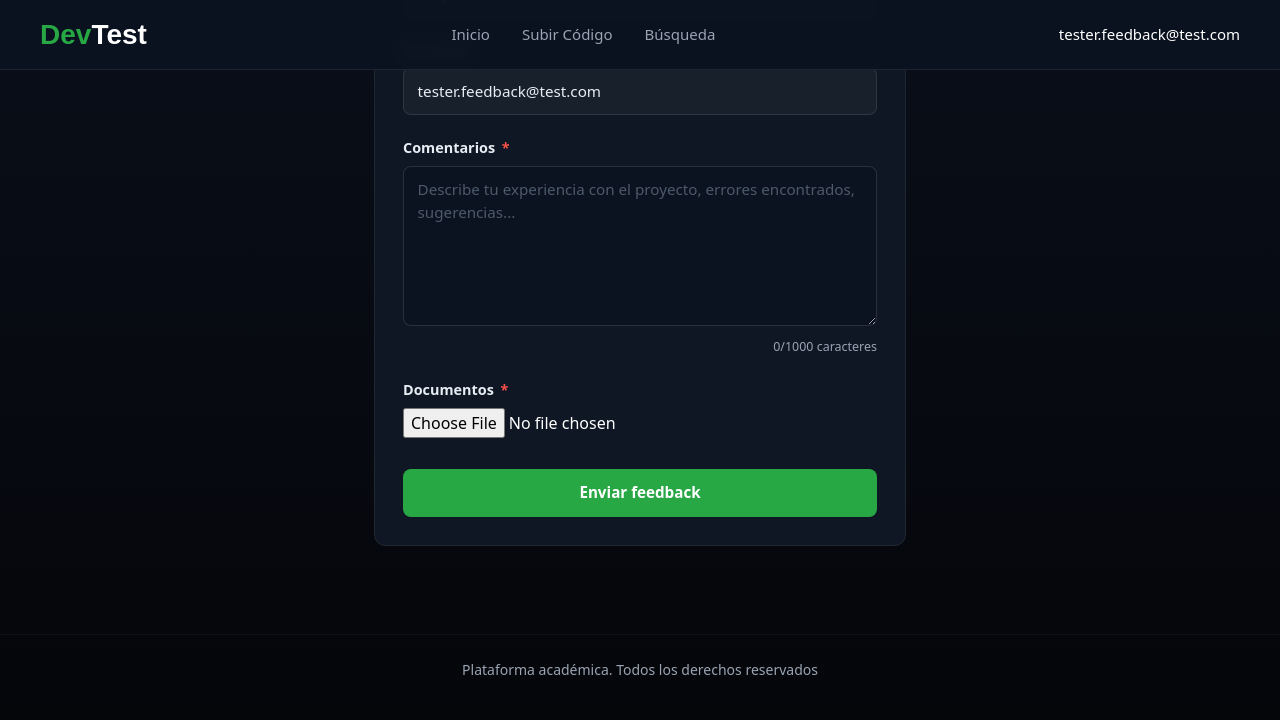
Test: DT_08 - Enviar feedback de proyecto › DT_08_10: Al corregir texto limpia solo el error de texto
This screenshot has width=1280, height=720.
(page scrolled)
Click the button with class "feedback-boton-enviar": click(640, 493) [403,469,877,517]
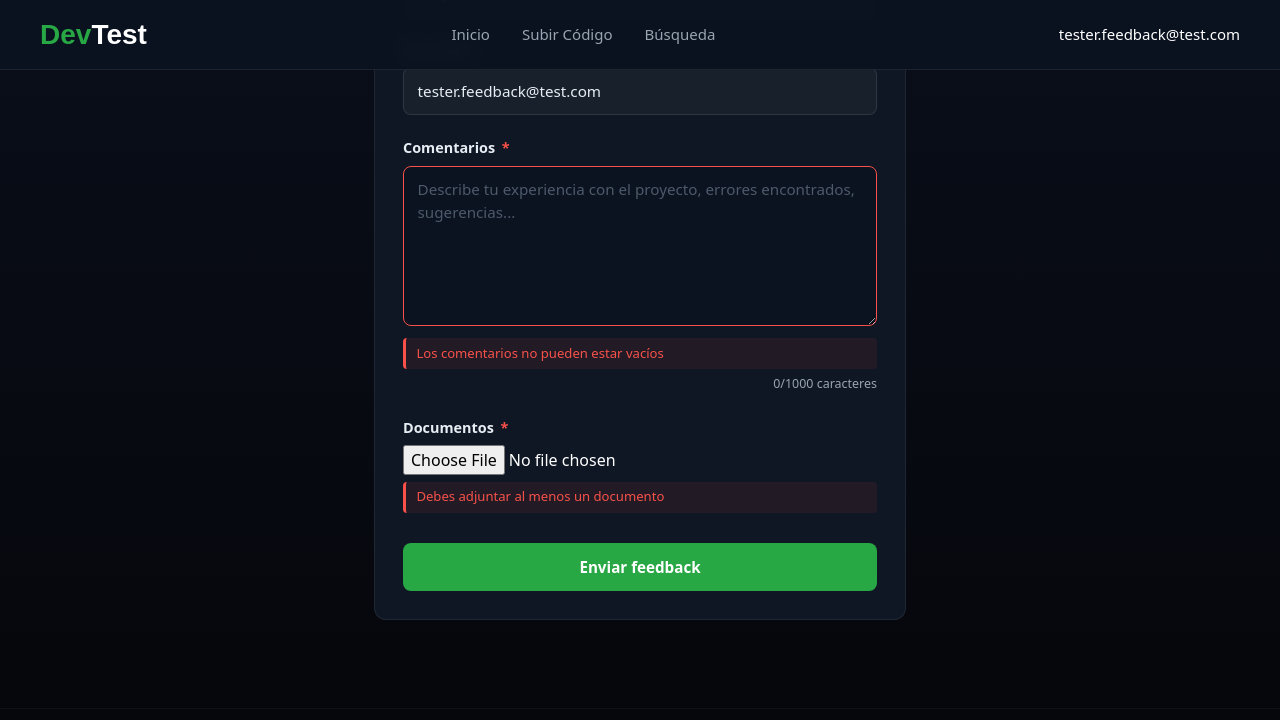
expect the text "Los comentarios no pueden estar vac" is shown: met, box [416,344,663,362]
expect the text "Debes adjuntar al menos un documento" is shown: met, box [403,482,877,513]
In the text box with id "texto-feedback": (640, 246) [403,166,877,326], type "Texto corregido"
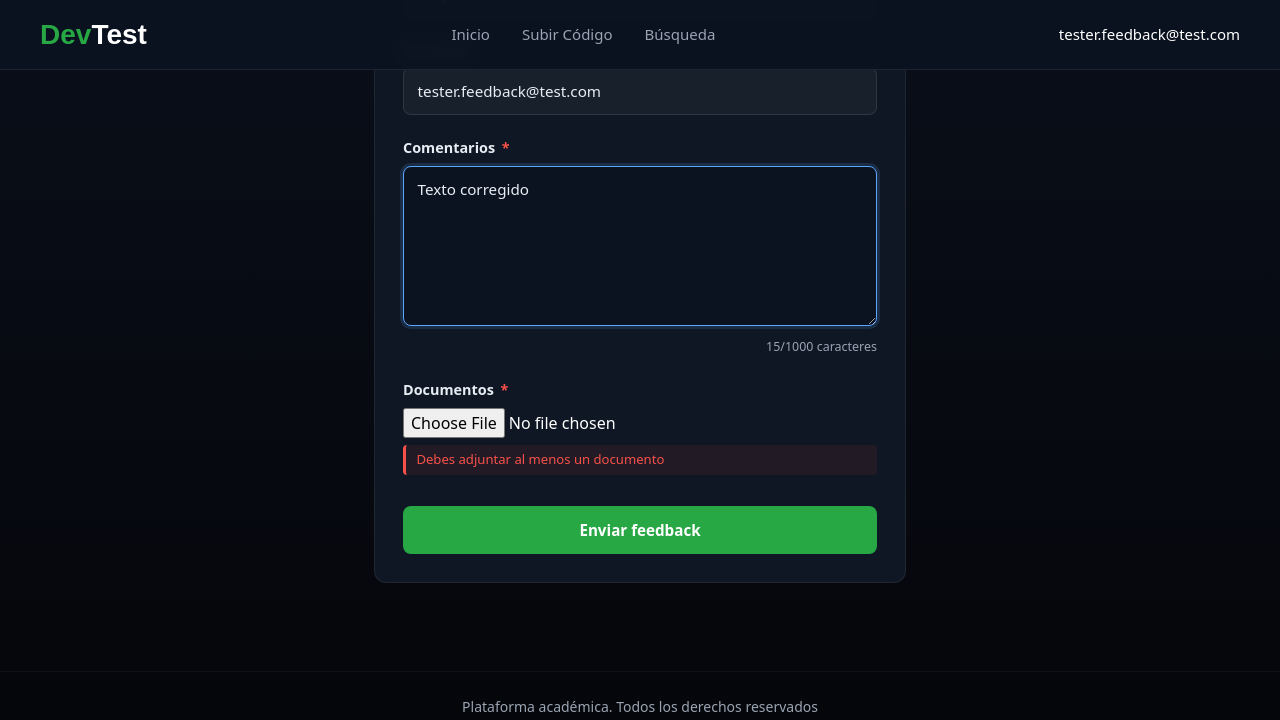
expect the text "Debes adjuntar al menos un documento" is shown: met, box [403,444,877,475]
expect the text "Los comentarios no pueden estar vac" is gone: met
